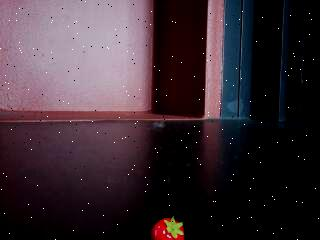Tomato: (150, 215, 186, 240)
